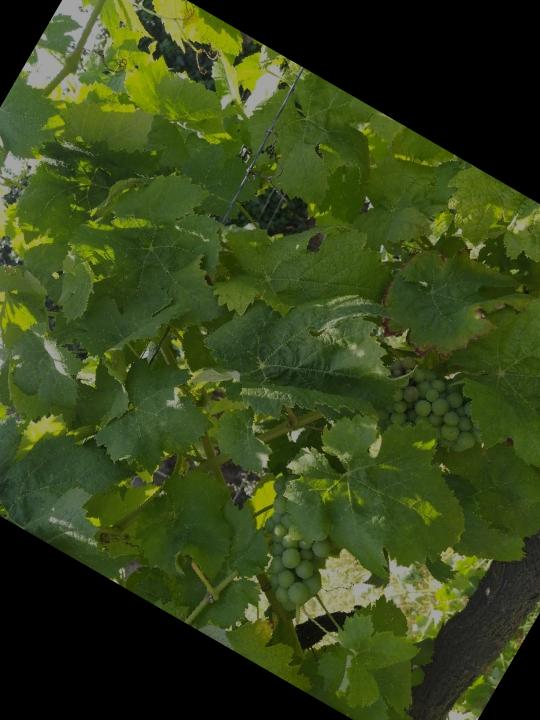grape: (217, 461, 368, 622), (361, 346, 506, 476)
